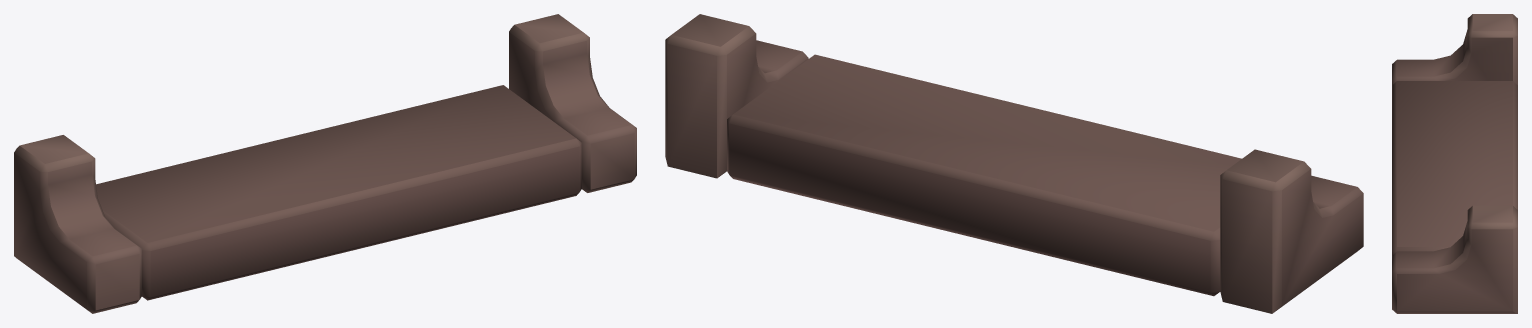
The model's file is shelf_B_large.glb.
The picture shows the model from 3 angles, left to right: view 1: azimuth 30°, elevation 25°; view 2: azimuth 150°, elevation 25°; view 3: azimuth 270°, elevation 25°; orthographic projection. The views are drawn at different scales.
Parts seen in each view (by area): view 1: shelf_B_large; view 2: shelf_B_large; view 3: shelf_B_large.
Boxes of the visible parts, x1,y1,x2,y2 form: shelf_B_large: (14, 14, 636, 313); shelf_B_large: (665, 14, 1363, 313); shelf_B_large: (1392, 14, 1517, 313).
Bounding box in the file's own units: 2 × 0.4 × 0.5.
Materials: 1 (1 with a texture image).
